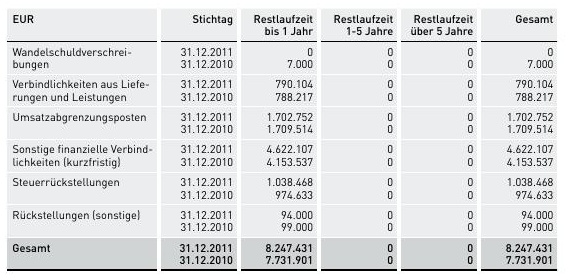table: (0, 0, 571, 280)
